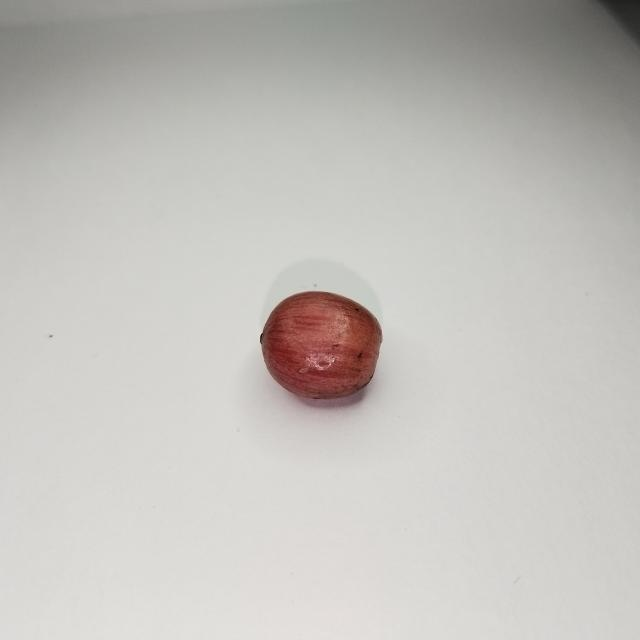Sano: (260, 290, 381, 401)
